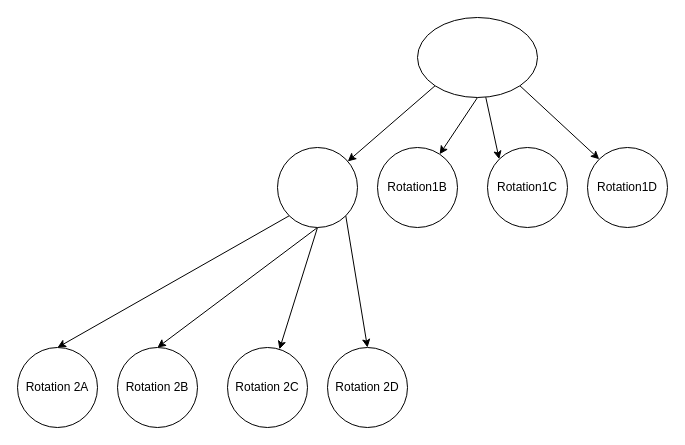
Some shapes in this 685 by 445 pixel diagram are drawn without their labels. The centre of each missing label's shape, as x and y in pixels:
"Roster" goes at (x=477, y=57).
"Rotation1A" goes at (x=317, y=187).
